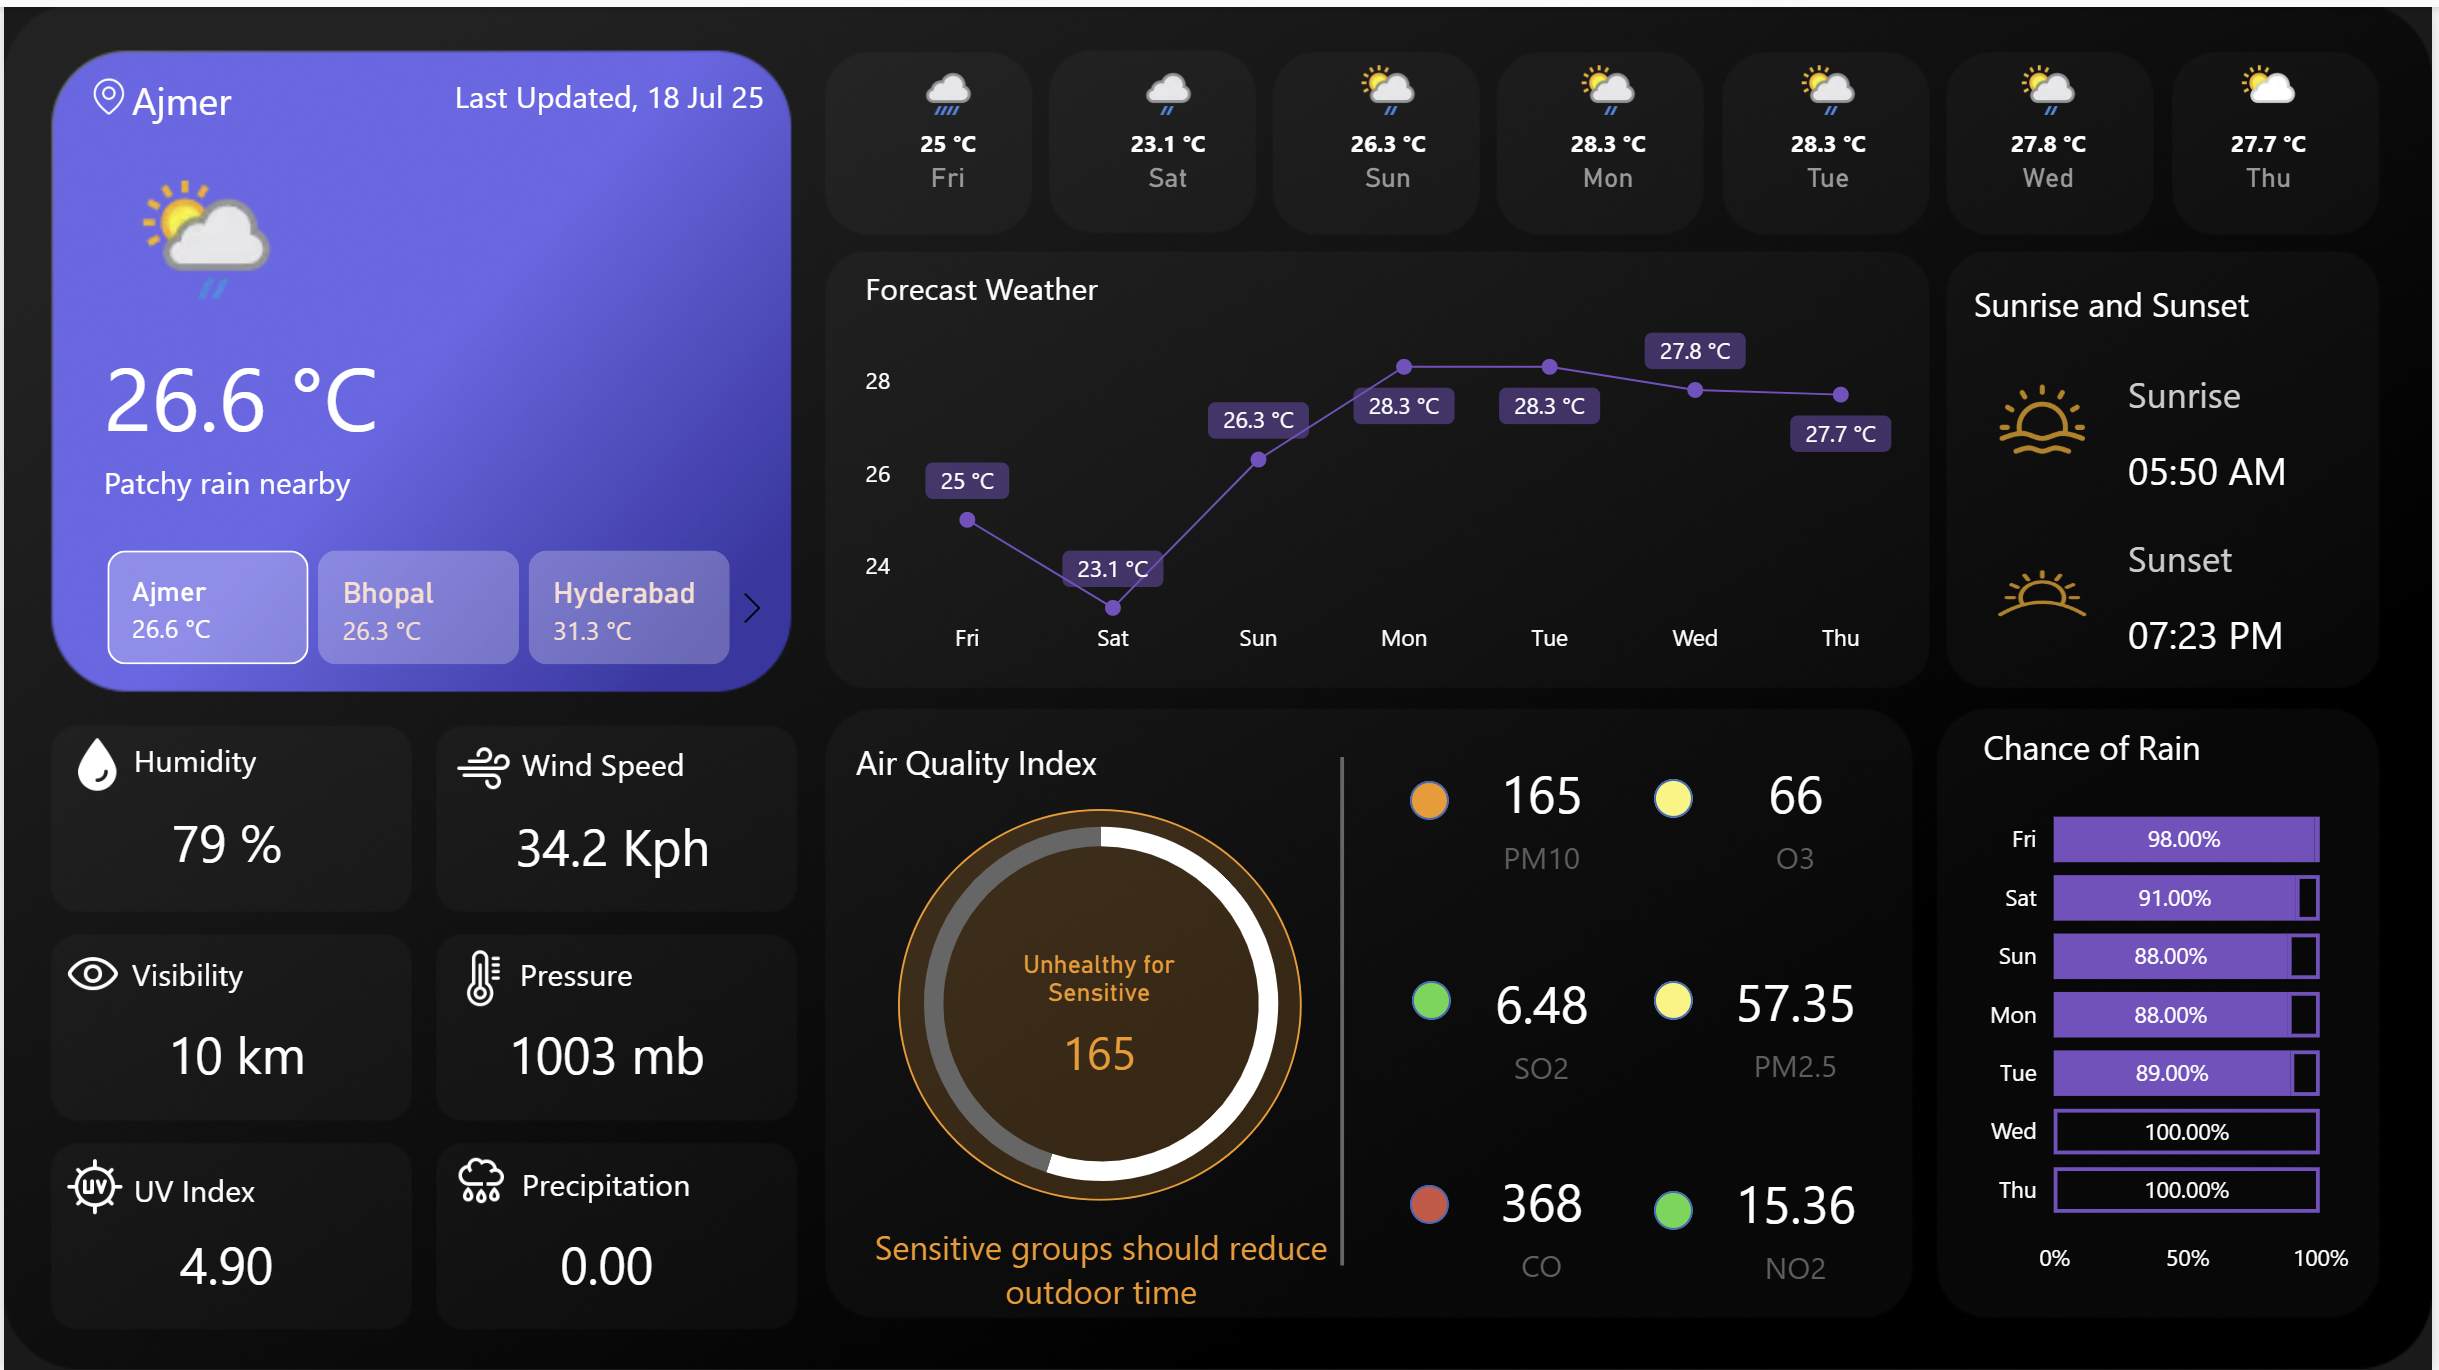

The dashboard page shown, as its layout file describes it:
{"tool":"powerbi","page":{"name":"Page 1","canvas":[1280,720],"ordinal":0},"visuals":[{"type":"shape","box":[471.3,422.5,212.8,206.5],"z":0},{"type":"advancedSlicerVisual","fields":{"Values":["Locations.location.name"]},"box":[29.1,281.4,380.4,70],"z":1000},{"type":"shape","box":[52.8,168.4,166.4,71.3],"z":2000},{"type":"shape","box":[52.8,223.9,346.1,52.8],"z":3000},{"type":"shape","box":[227.2,27.7,173,38.3],"z":4000},{"type":"shape","box":[67.4,29.1,159.8,38.3],"z":5000},{"type":"image","box":[34.3,33,40.9,29.1],"z":6000},{"type":"cardVisual","fields":{"Data":["Min(Current.current.condition.icon)"]},"box":[26.7,62.8,139,108.2],"z":7000},{"type":"image","box":[26.4,487.4,40.9,44.9],"z":8000},{"type":"image","box":[232.5,379.1,39.6,43.6],"z":9000},{"type":"image","box":[27.7,599.7,40.9,43.6],"z":10000},{"type":"image","box":[232.5,490.1,39.6,43.6],"z":11000},{"type":"shape","box":[68.7,377.8,126.8,38.3],"z":12000},{"type":"shape","box":[273.4,379.1,126.8,38.3],"z":13000},{"type":"shape","box":[67.4,490.1,126.8,38.3],"z":14000},{"type":"shape","box":[272.1,490.1,126.8,38.3],"z":15000},{"type":"shape","box":[68.8,604.3,126.2,38.2],"z":16000},{"type":"shape","box":[273.4,601,126.8,38.3],"z":17000},{"type":"image","box":[229.8,598.4,43.6,39.6],"z":18000},{"type":"image","box":[27.7,379.1,43.6,39.6],"z":19000},{"type":"card","fields":{"Values":["_Measures.Humidity"]},"box":[29.1,416.1,175.7,50.2],"z":20000},{"type":"card","fields":{"Values":["_Measures.Visibilty"]},"box":[34.3,528.4,175.7,50.2],"z":21000},{"type":"card","fields":{"Values":["_Measures.Pressure"]},"box":[229.8,528.4,175.7,50.2],"z":22000},{"type":"card","fields":{"Values":["Sum(Current.current.uv)"]},"box":[29.1,639.3,175.7,50.2],"z":23000},{"type":"card","fields":{"Values":["Sum(Current.current.precip_in)"]},"box":[229.8,638,175.7,51.5],"z":24000},{"type":"card","fields":{"Values":["_Measures.Wind_Speed"]},"box":[232.5,418.7,175.7,50.2],"z":25000},{"type":"advancedSlicerVisual","fields":{"Values":["Forcast_Day.Day_Name"]},"box":[439.2,20.2,814.8,92.5],"z":26000},{"type":"lineChart","title":"Forecast Weather","fields":{"Y":["Sum(Forcast_Day.forecast.forecastday.day.avgtemp_c)"],"Category":["Forcast_Day.Day_Name"]},"box":[449.3,137.2,554.8,213.8],"z":27000},{"type":"shape","box":[1038.7,137.2,202.3,39],"z":28000},{"type":"shape","box":[1119.6,215.3,121.4,57.8],"z":29000},{"type":"shape","box":[1119.6,301.9,121.4,57.8],"z":30000},{"type":"shape","box":[1119.6,180.6,121.4,46.2],"z":31000},{"type":"shape","box":[1119.6,273,121.4,34.7],"z":32000},{"type":"image","box":[1038.7,281.7,72.2,54.9],"z":33000},{"type":"image","box":[1038.7,189.3,72.2,54.9],"z":34000},{"type":"hundredPercentStackedBarChart","title":"Chance of Rain ","fields":{"Y":["Sum(Forcast_Day.forecast.forecastday.day.daily_chance_of_rain)","_Measures.Left_value_Rain"],"Category":["Forcast_Day.Day_Name"]},"box":[1038.7,378.5,202.3,299.1],"z":35000},{"type":"card","fields":{"Values":["Sum(Current.current.air_quality.o3)"]},"box":[884.3,386.2,119.8,80.4],"z":36000},{"type":"shape","box":[449.3,378.3,203.3,39.4],"z":37000},{"type":"card","fields":{"Values":["Sum(Current.current.air_quality.pm10)"]},"box":[750.3,386.2,119.8,80.4],"z":38000},{"type":"card","fields":{"Values":["Sum(Current.current.air_quality.pm2_5)"]},"box":[884.3,495,119.8,80.4],"z":39000},{"type":"card","fields":{"Values":["Sum(Current.current.air_quality.no2)"]},"box":[884.3,602.2,119.8,80.4],"z":40000},{"type":"card","fields":{"Values":["Sum(Current.current.air_quality.so2)"]},"box":[750.3,496.6,119.8,80.4],"z":41000},{"type":"card","fields":{"Values":["Sum(Current.current.air_quality.co)"]},"box":[750.3,600.6,119.8,80.4],"z":42000},{"type":"shape","box":[740.9,408.3,20.5,20.5],"z":43000},{"type":"shape","box":[740.9,621.1,20.5,20.5],"z":44000},{"type":"shape","box":[870.1,624.2,20.5,20.5],"z":45000},{"type":"shape","box":[870.1,513.9,20.5,20.5],"z":46000},{"type":"shape","box":[870.1,406.7,20.5,20.5],"z":47000},{"type":"shape","box":[742.5,513.9,20.5,20.5],"z":48000},{"type":"shape","box":[649.5,395.7,111.9,268],"z":49000},{"type":"card","fields":{"Values":["Sum(Current.current.air_quality.pm10)"]},"box":[517,496.6,121.4,82],"z":50000},{"type":"donutChart","fields":{"Y":["Sum(Current.current.air_quality.pm10)","_Measures.Left_Value_PM10"]},"box":[455.6,405.1,245.9,242.8],"z":51000},{"type":"shape","box":[449.3,640,258.5,50.4],"z":52000}]}

Visuals, with their boxes in screenshot pixels (x1, y1, x2, y2), scaled from the page's 1280x720 canvas onto the 2439x1370 screenshot:
shape: left=898, top=804, right=1304, bottom=1197
advancedSlicerVisual - Locations.location.name: left=55, top=535, right=780, bottom=669
shape: left=101, top=320, right=418, bottom=456
shape: left=101, top=426, right=760, bottom=526
shape: left=433, top=53, right=763, bottom=126
shape: left=128, top=55, right=433, bottom=128
image: left=65, top=63, right=143, bottom=118
cardVisual - Min(Current.current.condition.icon): left=51, top=119, right=316, bottom=325
image: left=50, top=927, right=128, bottom=1013
image: left=443, top=721, right=518, bottom=804
image: left=53, top=1141, right=131, bottom=1224
image: left=443, top=933, right=518, bottom=1016
shape: left=131, top=719, right=373, bottom=792
shape: left=521, top=721, right=763, bottom=794
shape: left=128, top=933, right=370, bottom=1005
shape: left=518, top=933, right=760, bottom=1005
shape: left=131, top=1150, right=372, bottom=1223
shape: left=521, top=1144, right=763, bottom=1216
image: left=438, top=1139, right=521, bottom=1214
image: left=53, top=721, right=136, bottom=797
card - _Measures.Humidity: left=55, top=792, right=390, bottom=887
card - _Measures.Visibilty: left=65, top=1005, right=400, bottom=1101
card - _Measures.Pressure: left=438, top=1005, right=773, bottom=1101
card - Sum(Current.current.uv): left=55, top=1216, right=390, bottom=1312
card - Sum(Current.current.precip_in): left=438, top=1214, right=773, bottom=1312
card - _Measures.Wind_Speed: left=443, top=797, right=778, bottom=892
advancedSlicerVisual - Forcast_Day.Day_Name: left=837, top=38, right=2389, bottom=214
"Forecast Weather" lineChart: left=856, top=261, right=1913, bottom=668
shape: left=1979, top=261, right=2365, bottom=335
shape: left=2133, top=410, right=2365, bottom=520
shape: left=2133, top=574, right=2365, bottom=684
shape: left=2133, top=344, right=2365, bottom=432
shape: left=2133, top=519, right=2365, bottom=585
image: left=1979, top=536, right=2117, bottom=640
image: left=1979, top=360, right=2117, bottom=465
"Chance of Rain " hundredPercentStackedBarChart: left=1979, top=720, right=2365, bottom=1289
card - Sum(Current.current.air_quality.o3): left=1685, top=735, right=1913, bottom=888
shape: left=856, top=720, right=1244, bottom=795
card - Sum(Current.current.air_quality.pm10): left=1430, top=735, right=1658, bottom=888
card - Sum(Current.current.air_quality.pm2_5): left=1685, top=942, right=1913, bottom=1095
card - Sum(Current.current.air_quality.no2): left=1685, top=1146, right=1913, bottom=1299
card - Sum(Current.current.air_quality.so2): left=1430, top=945, right=1658, bottom=1098
card - Sum(Current.current.air_quality.co): left=1430, top=1143, right=1658, bottom=1296
shape: left=1412, top=777, right=1451, bottom=816
shape: left=1412, top=1182, right=1451, bottom=1221
shape: left=1658, top=1188, right=1697, bottom=1227
shape: left=1658, top=978, right=1697, bottom=1017
shape: left=1658, top=774, right=1697, bottom=813
shape: left=1415, top=978, right=1454, bottom=1017
shape: left=1238, top=753, right=1451, bottom=1263
card - Sum(Current.current.air_quality.pm10): left=985, top=945, right=1216, bottom=1101
donutChart - Sum(Current.current.air_quality.pm10) x _Measures.Left_Value_PM10: left=868, top=771, right=1337, bottom=1233
shape: left=856, top=1218, right=1349, bottom=1314
